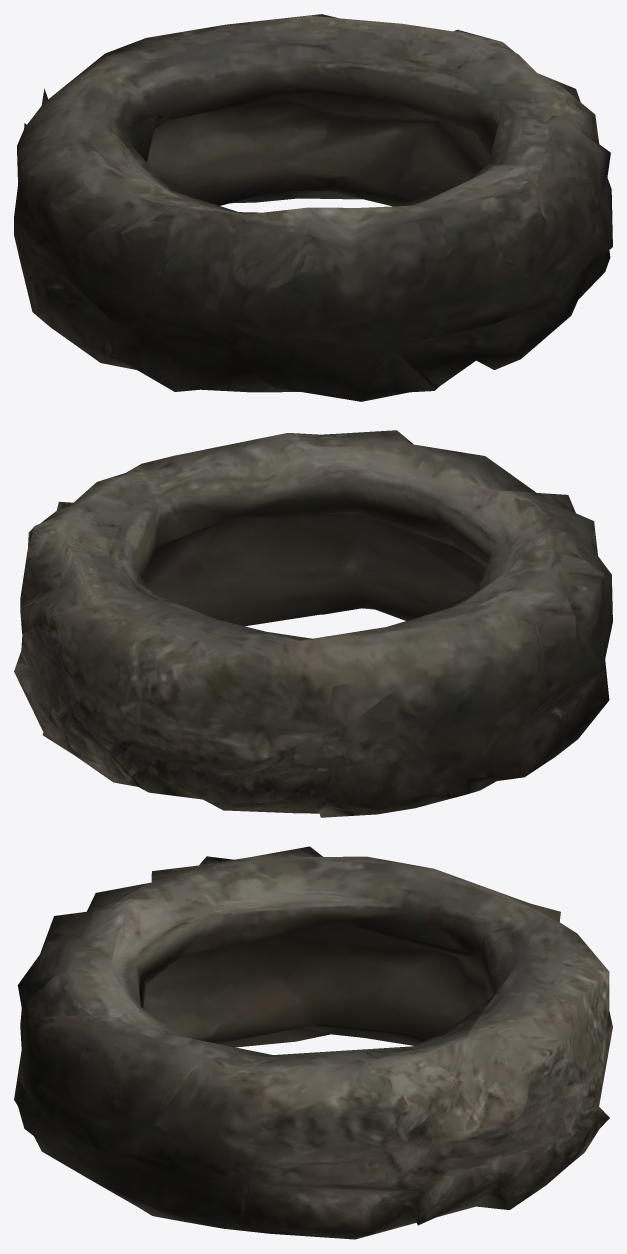
File: e_tire.glb
3 renders of one model, top to bottom at view 1: azimuth 30°, elevation 25°; view 2: azimuth 150°, elevation 25°; view 3: azimuth 270°, elevation 25°, orthographic.
Visible parts, largest first — view 1: tripo_node_add2b5a5-aae8-40fb-9374-5b27c6aaa2ea; view 2: tripo_node_add2b5a5-aae8-40fb-9374-5b27c6aaa2ea; view 3: tripo_node_add2b5a5-aae8-40fb-9374-5b27c6aaa2ea.
Part boxes in pixels (bbox=[...]): tripo_node_add2b5a5-aae8-40fb-9374-5b27c6aaa2ea: bbox=[14, 14, 612, 401]; tripo_node_add2b5a5-aae8-40fb-9374-5b27c6aaa2ea: bbox=[14, 430, 612, 817]; tripo_node_add2b5a5-aae8-40fb-9374-5b27c6aaa2ea: bbox=[14, 846, 612, 1239].
Size of the model in its own units: 1 by 0.3299 by 0.9927.
1 material, 1 textured.
